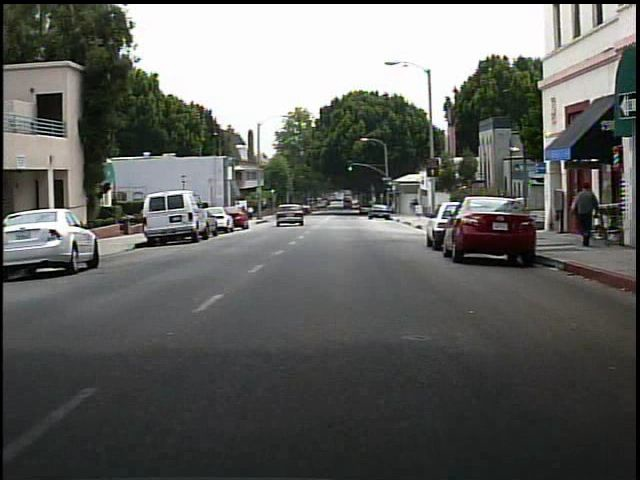person: (568, 181, 602, 248)
